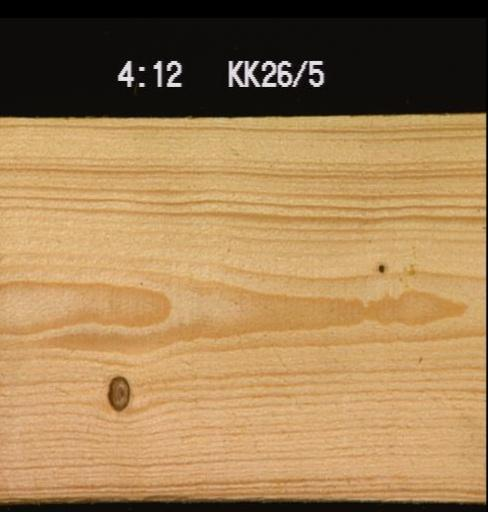dry_knot: (103, 371, 131, 411)
small_knot: (372, 257, 388, 275)
